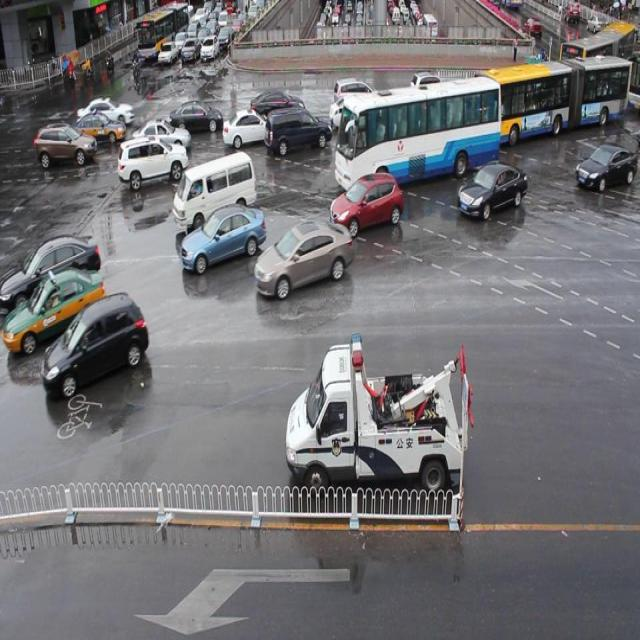bus: (286, 333, 474, 494)
car: (46, 296, 148, 398), (1, 268, 105, 353), (0, 236, 100, 316), (255, 223, 351, 294), (180, 206, 265, 270), (328, 174, 401, 233), (456, 163, 527, 217), (118, 135, 188, 185), (574, 142, 640, 187), (265, 108, 330, 150), (35, 124, 97, 166), (134, 117, 191, 156), (326, 96, 376, 136), (223, 109, 273, 146), (168, 99, 222, 133), (334, 76, 380, 112), (250, 88, 305, 118), (74, 114, 128, 144), (78, 99, 135, 127), (411, 71, 448, 108), (443, 84, 477, 119), (477, 70, 510, 104), (412, 88, 443, 122)
truck: (174, 157, 257, 231)
van: (334, 81, 501, 181), (478, 61, 628, 137)
